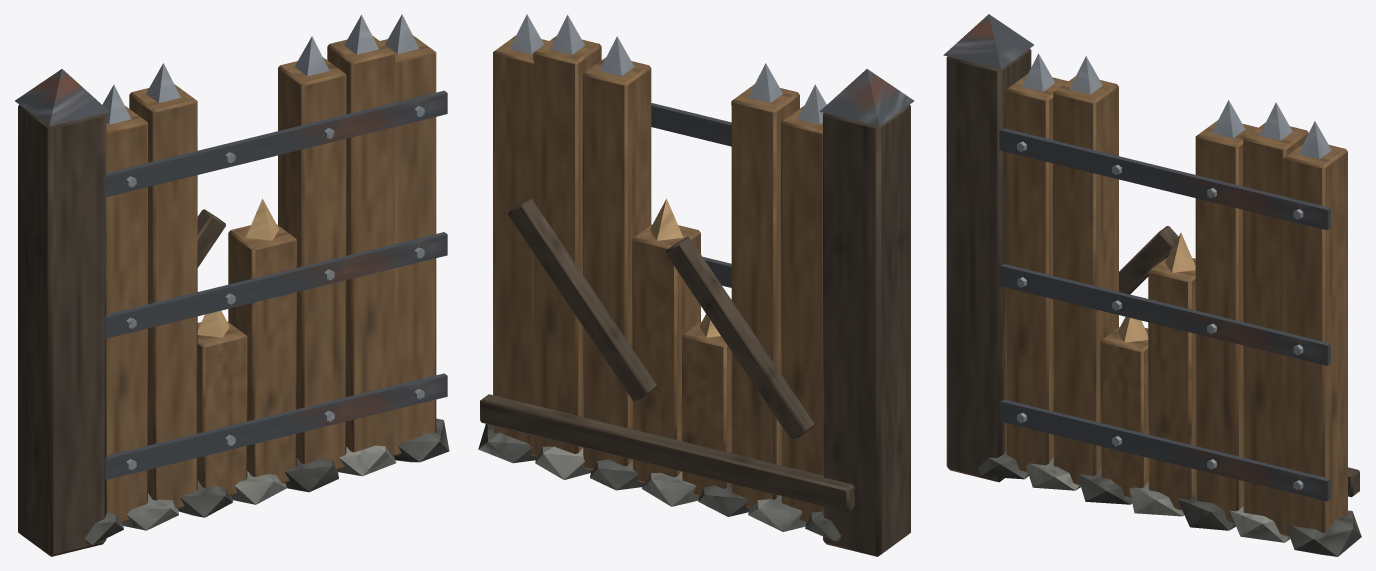
Rendered from SM_ReinforcedWall_Damaged.fbx.
3 views of the same model, side by side, from view 1: azimuth 30°, elevation 25°; view 2: azimuth 150°, elevation 25°; view 3: azimuth 330°, elevation 25° (orthographic). The views are drawn at different scales.
Visible parts, largest first — view 1: SM_ReinforcedWall_Damaged; view 2: SM_ReinforcedWall_Damaged; view 3: SM_ReinforcedWall_Damaged.
Boxes of the visible parts, x1,y1,x2,y2 form: SM_ReinforcedWall_Damaged: (15,14,449,556); SM_ReinforcedWall_Damaged: (478,14,914,556); SM_ReinforcedWall_Damaged: (943,14,1361,556).
Bounding box in the file's own units: 9.13 × 10.14 × 1.73.
1 material, 1 textured.
